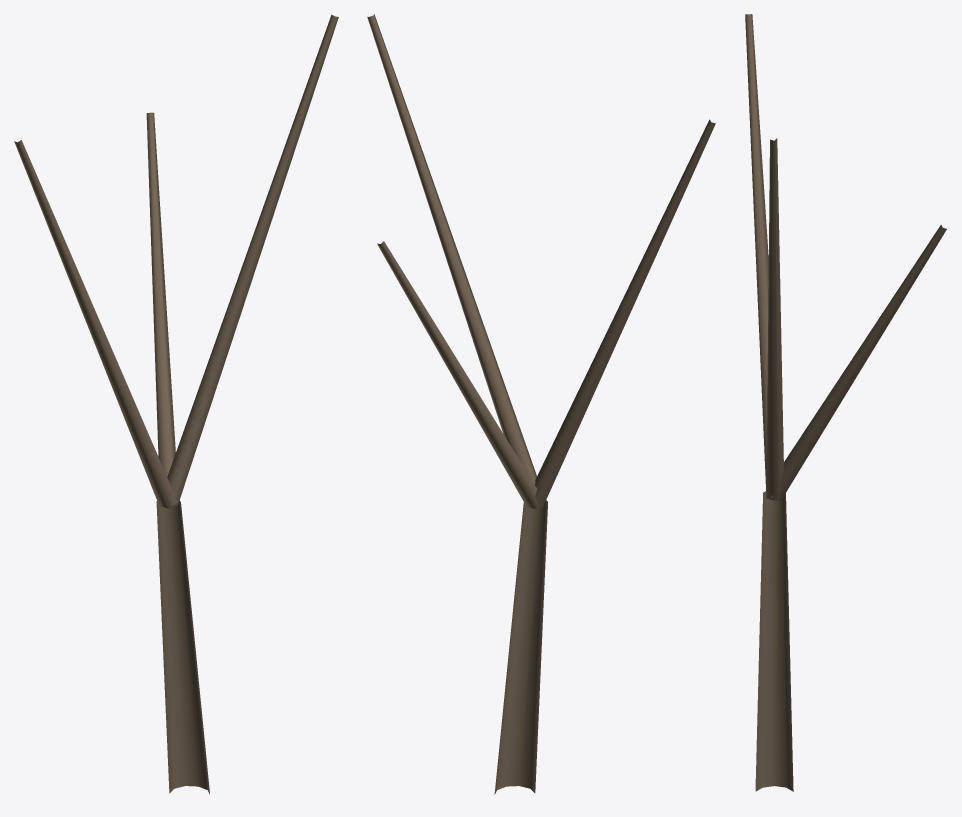
The model's file is dead_standing-a.lod0.glb.
3 views of the same model, side by side, from view 1: azimuth 30°, elevation 25°; view 2: azimuth 150°, elevation 25°; view 3: azimuth 270°, elevation 25° (orthographic). The views are drawn at different scales.
Visible parts, largest first — view 1: bark; view 2: bark; view 3: bark.
Boxes of the visible parts, left/top/right/bottom form: bark: left=14, top=14, right=338, bottom=794; bark: left=367, top=14, right=715, bottom=794; bark: left=745, top=14, right=946, bottom=791.
Size of the model in its own units: 2.84 by 6.01 by 1.52.
